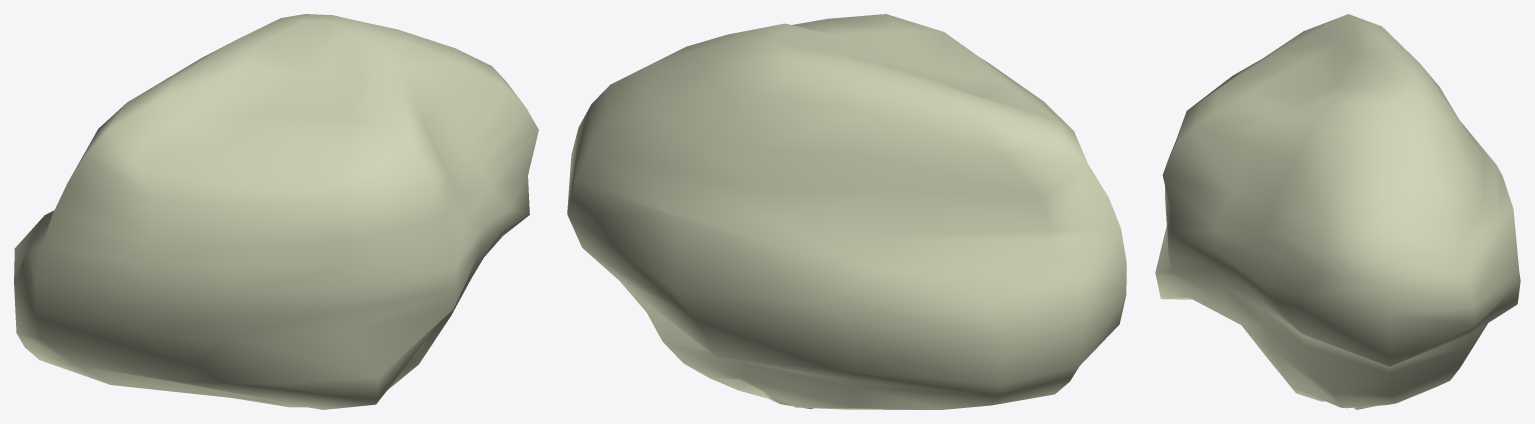
File: sAsteroid5_coll.obj
3 renders of one model, left to right at view 1: azimuth 30°, elevation 25°; view 2: azimuth 150°, elevation 25°; view 3: azimuth 270°, elevation 25°, orthographic. The views are drawn at different scales.
Visible parts, largest first — view 1: sphere1; view 2: sphere1; view 3: sphere1.
Boxes of the visible parts, <box> form: sphere1: <box>14,14,538,409</box>; sphere1: <box>567,14,1126,409</box>; sphere1: <box>1155,14,1520,409</box>.
Bounding box in the file's own units: 2.93 × 1.94 × 2.
